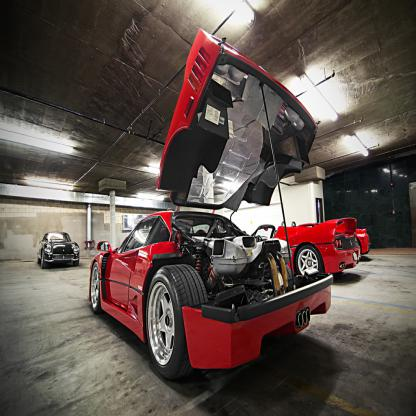Car: (88, 28, 335, 383), (252, 218, 362, 278), (289, 219, 369, 257), (36, 232, 80, 270)
